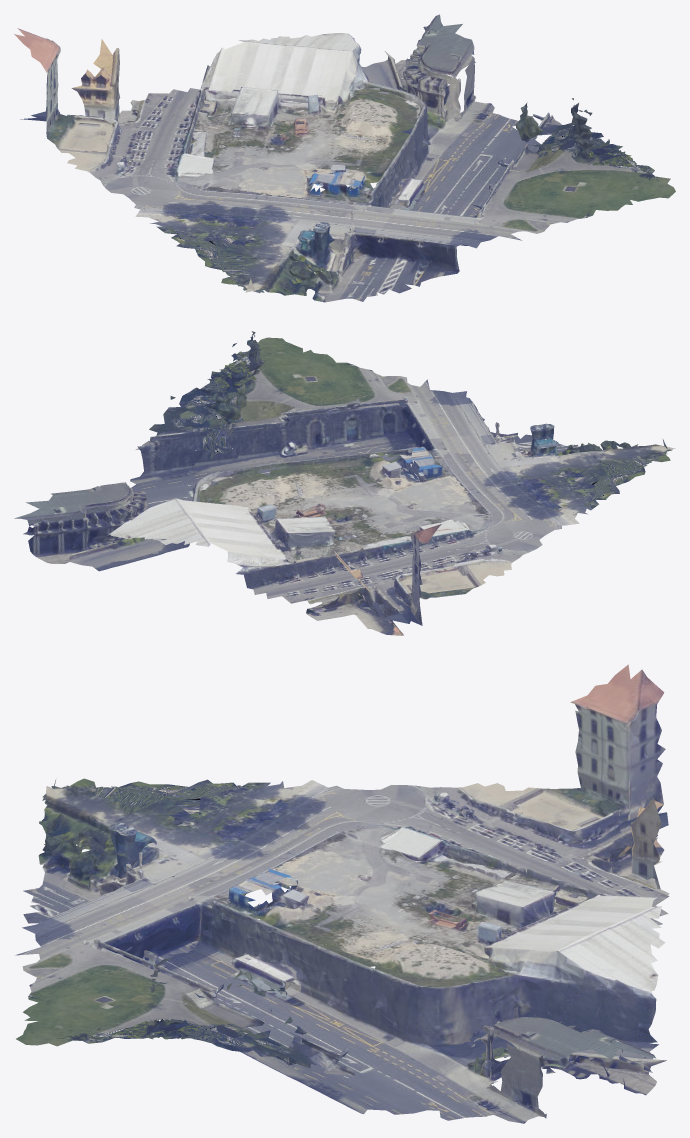
The picture shows the model from 3 angles, top to bottom: view 1: azimuth 30°, elevation 25°; view 2: azimuth 150°, elevation 25°; view 3: azimuth 270°, elevation 25°; orthographic projection. The views are drawn at different scales.
Size of the model in its own units: 109 by 33.92 by 109.
Materials: 1 (1 with a texture image).
